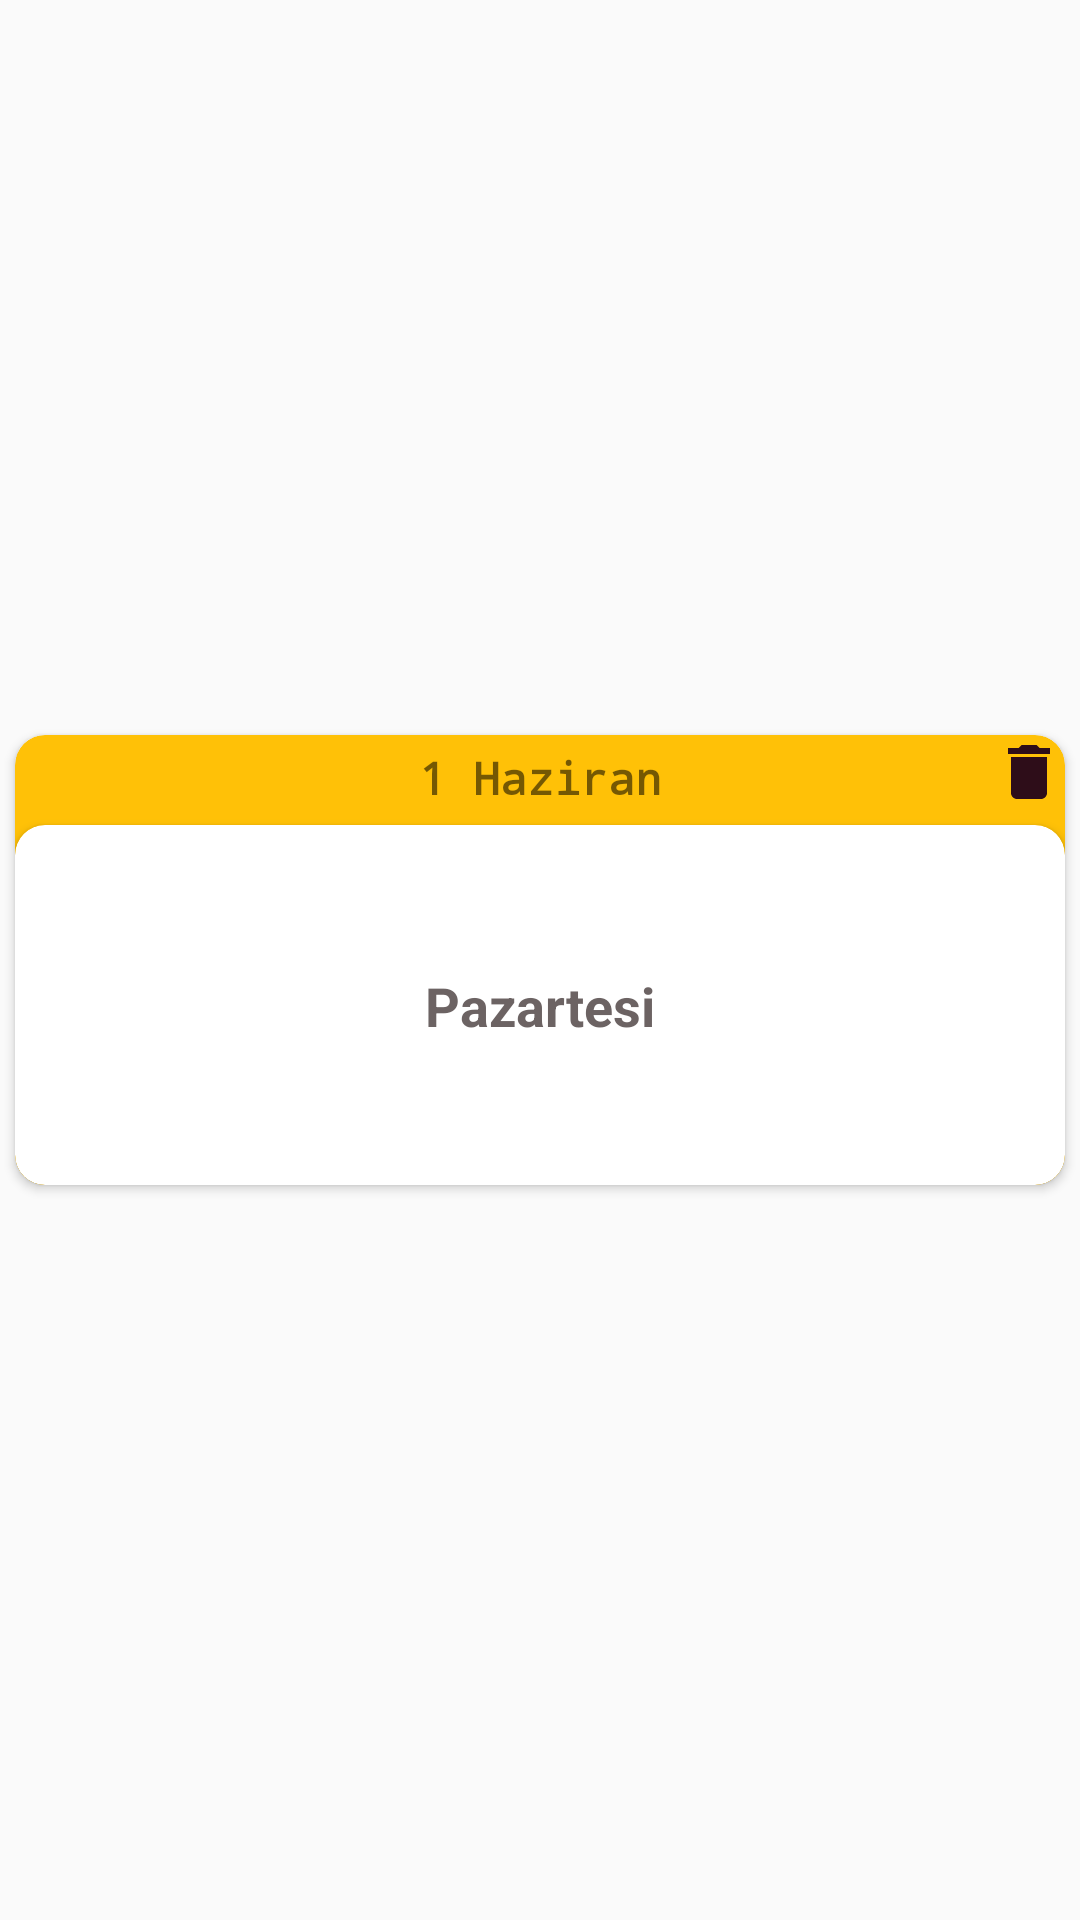

Screen size 1080*1920. Icon name, then its center in pixels as (x=x, y=y):
delete: (x=1029, y=772)
